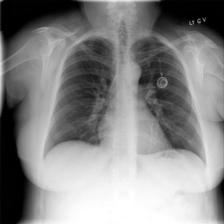normal: (39, 31, 210, 173)
